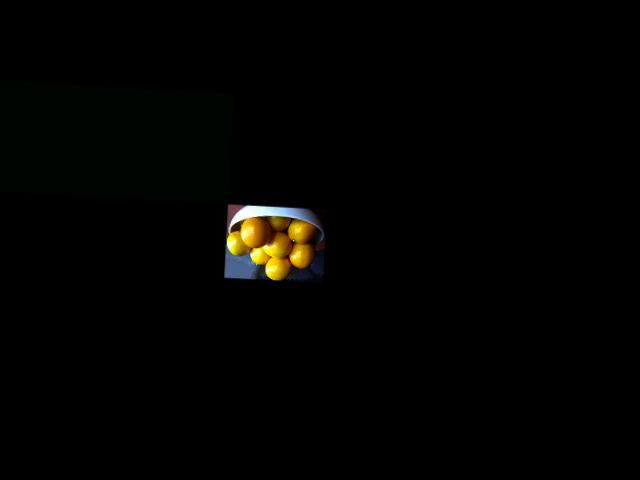lemon: (268, 210, 289, 231)
